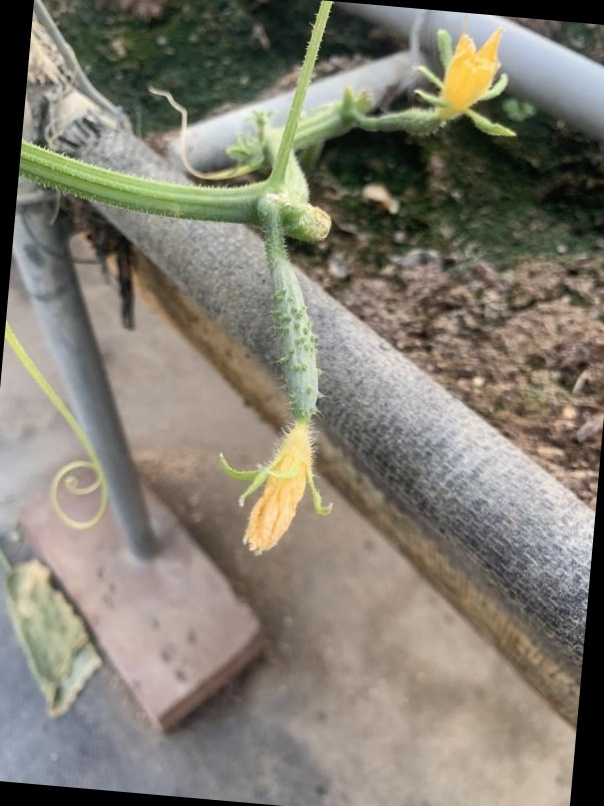bear: (230, 230, 346, 560), (371, 30, 512, 147)
